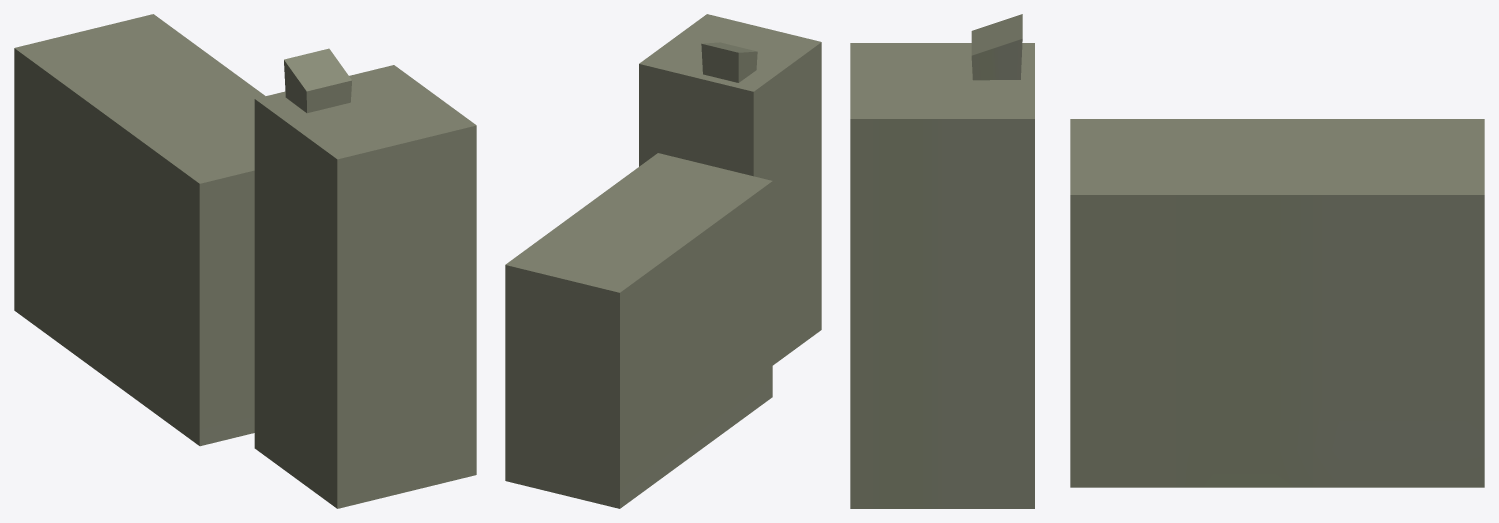
File: fake_ass_buildings.fbx
3 views of the same model, side by side, from view 1: azimuth 30°, elevation 25°; view 2: azimuth 150°, elevation 25°; view 3: azimuth 270°, elevation 25° (orthographic). The views are drawn at different scales.
Parts seen in each view (by area): view 1: fake_ass_buildings; view 2: fake_ass_buildings; view 3: fake_ass_buildings.
Boxes of the visible parts, x1,y1,x2,y2 form: fake_ass_buildings: (14, 14, 476, 508); fake_ass_buildings: (505, 14, 821, 508); fake_ass_buildings: (850, 14, 1484, 508).
Size of the model in its own units: 1126 by 2335 by 3107.
